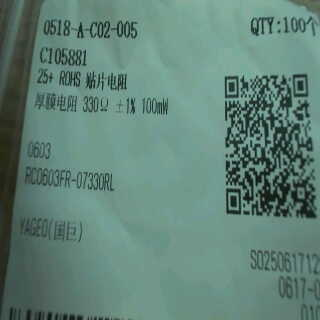330R: (81, 96, 111, 114)
